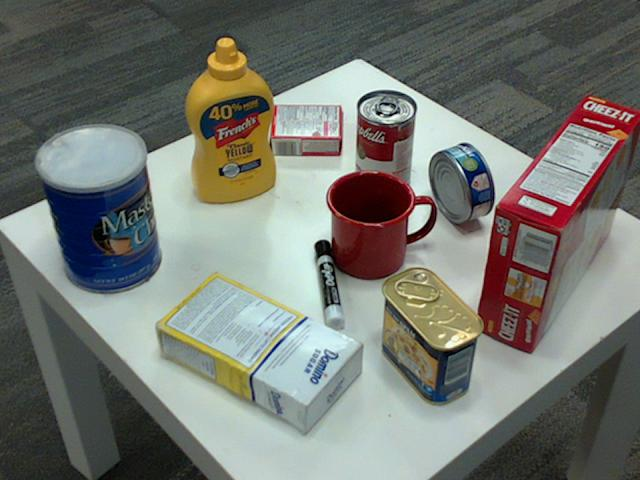cracker_box: (473, 93, 639, 351)
gelatin_box: (270, 102, 343, 152)
large_marker: (314, 241, 343, 334)
master_chef_can: (33, 125, 159, 294)
mug: (324, 167, 432, 276)
mustard_bottle: (184, 38, 276, 201)
potted_meat_can: (378, 266, 484, 404)
sugar_box: (150, 269, 360, 429)
tomato_soup_can: (354, 90, 416, 195)
tuna_fish_can: (428, 142, 493, 222)
